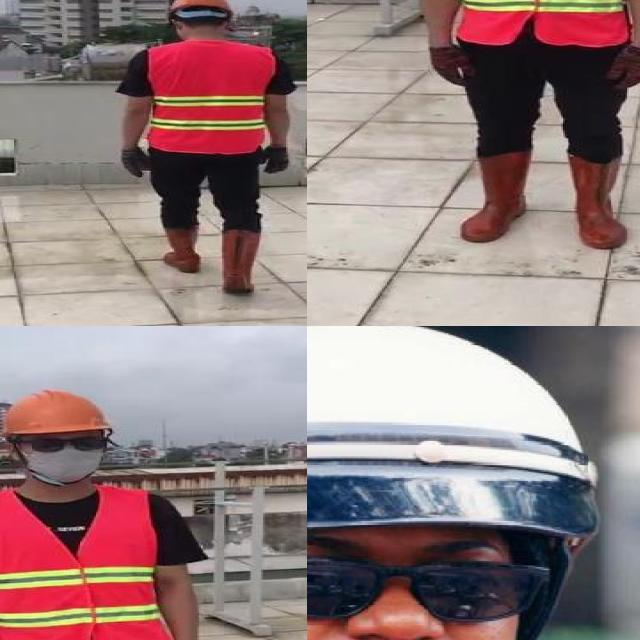boots: (460, 152, 529, 241), (568, 153, 630, 250), (220, 230, 263, 290), (156, 226, 204, 271)
face_mask: (26, 432, 104, 479)
face_nomask: (307, 543, 501, 640)
glasses: (307, 543, 554, 624), (22, 430, 108, 458)
hand_glove: (428, 45, 479, 86), (607, 48, 640, 91), (260, 144, 292, 174), (121, 147, 147, 180)
head_helmet: (307, 326, 603, 552), (0, 387, 111, 438), (169, 0, 230, 13)
person: (408, 0, 640, 259), (107, 0, 302, 296), (0, 386, 217, 640)
vest: (0, 488, 174, 640), (146, 41, 270, 153), (453, 0, 629, 46)
